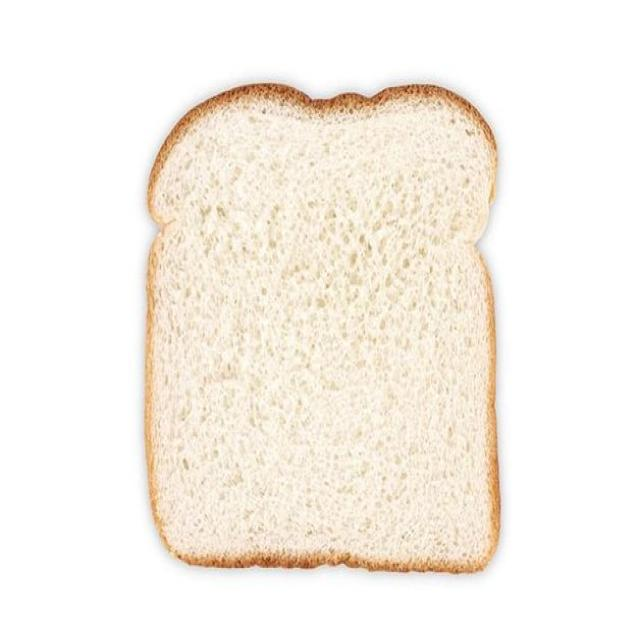Bread: (146, 85, 499, 571)
